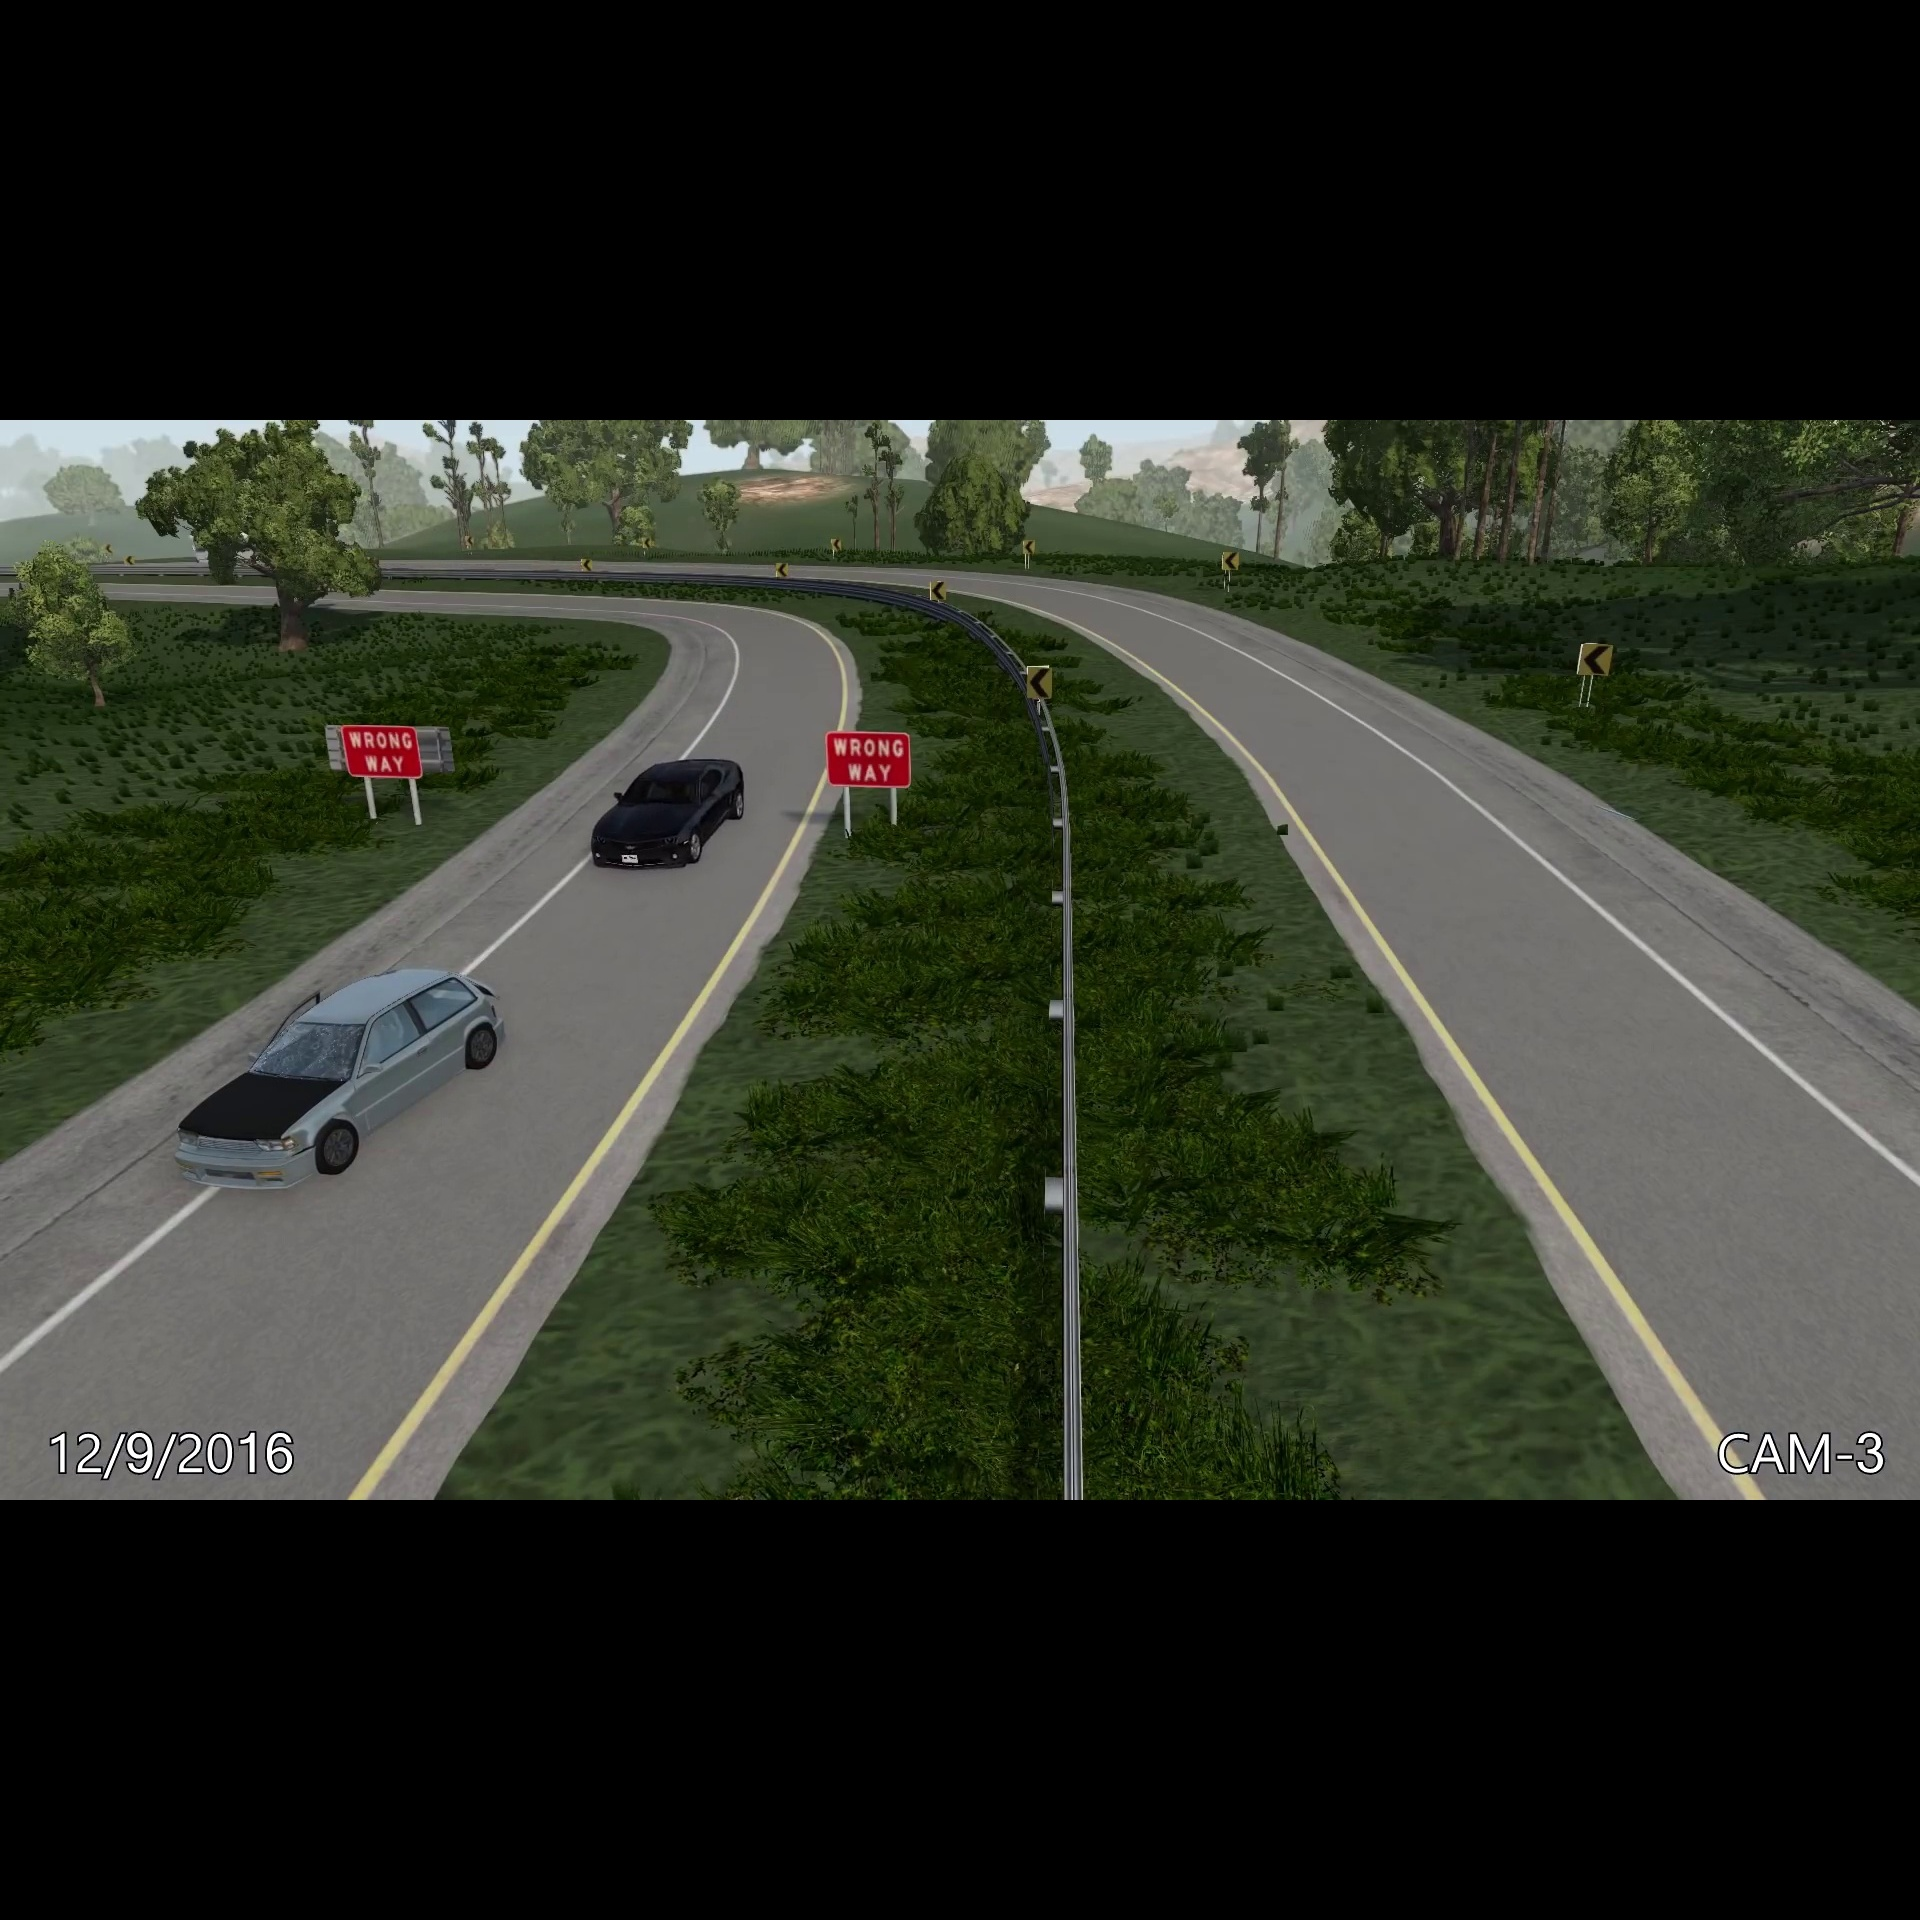vehicle: (165, 958, 513, 1199), (578, 751, 761, 883)
